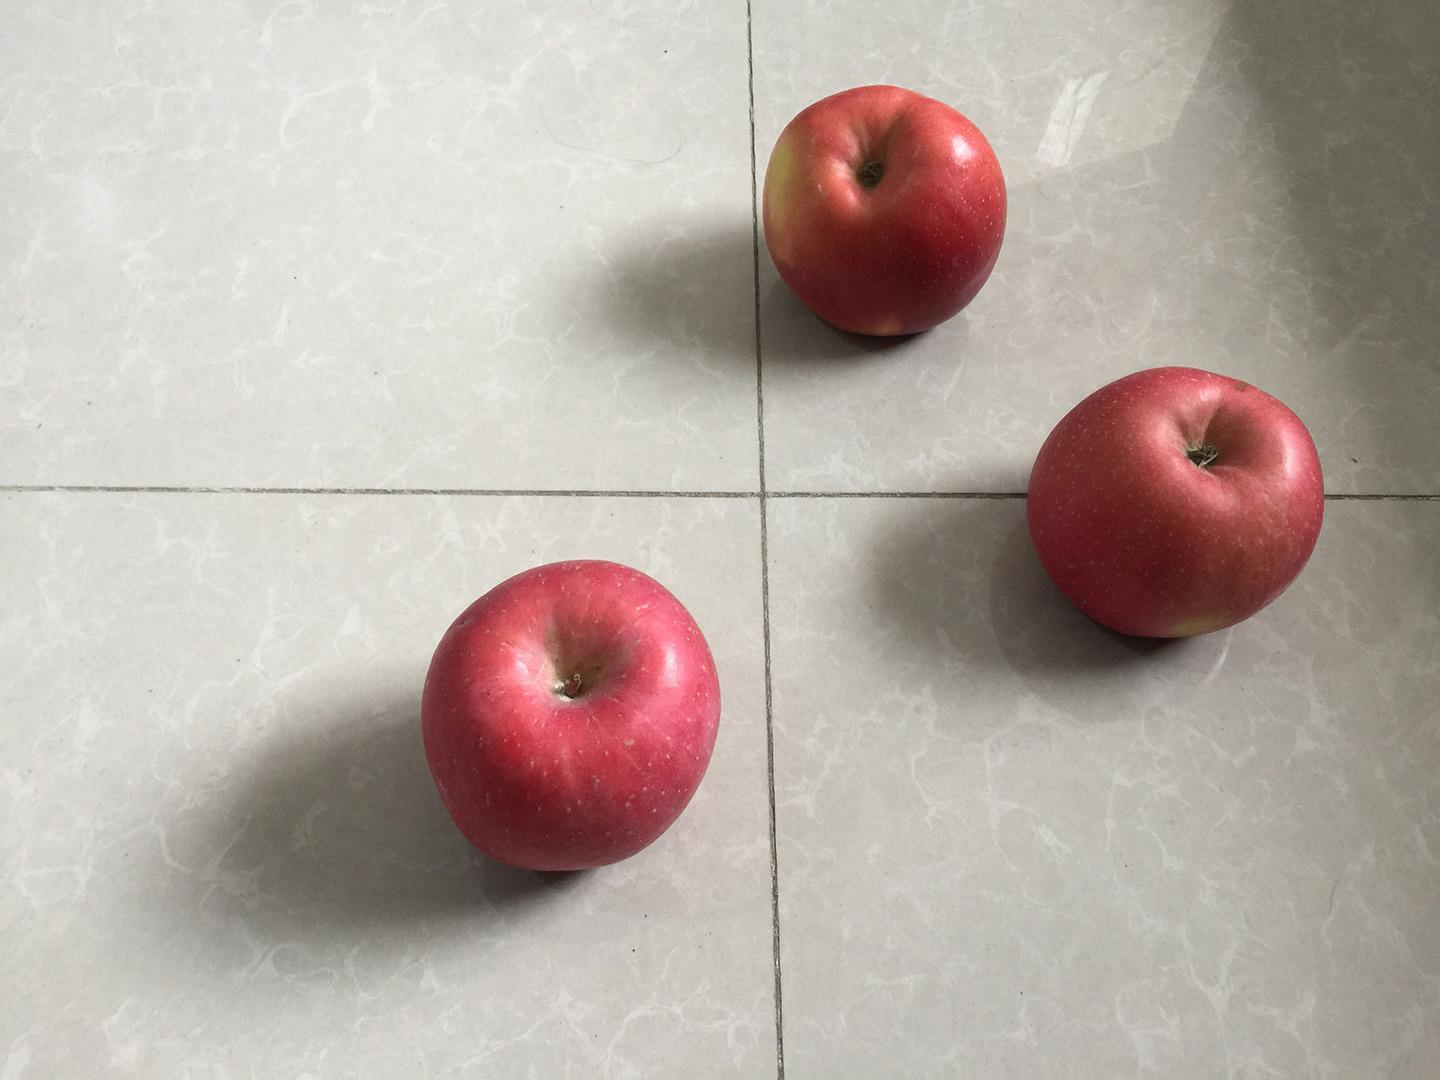apple: (415, 551, 723, 879), (1020, 356, 1330, 646), (759, 79, 1013, 346)
